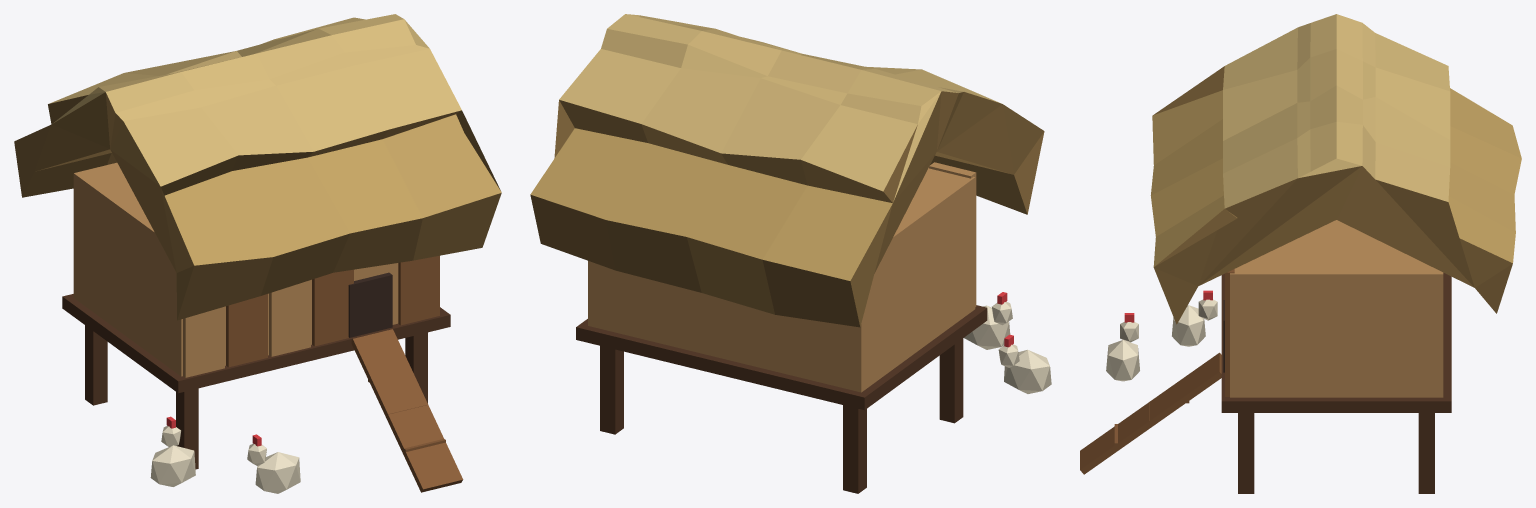
Rendered from Dorf_Huehnerstall.fbx.
The picture shows the model from 3 angles, left to right: view 1: azimuth 30°, elevation 25°; view 2: azimuth 150°, elevation 25°; view 3: azimuth 270°, elevation 25°; orthographic projection. The views are drawn at different scales.
Parts seen in each view (by area): view 1: Dorf_Huehnerstall; view 2: Dorf_Huehnerstall; view 3: Dorf_Huehnerstall.
Part boxes in pixels (bbox=[...]): Dorf_Huehnerstall: bbox=[14, 14, 501, 493]; Dorf_Huehnerstall: bbox=[530, 14, 1051, 493]; Dorf_Huehnerstall: bbox=[1080, 14, 1521, 493].
Bounding box in the file's own units: 2.33 × 2.37 × 2.69.
